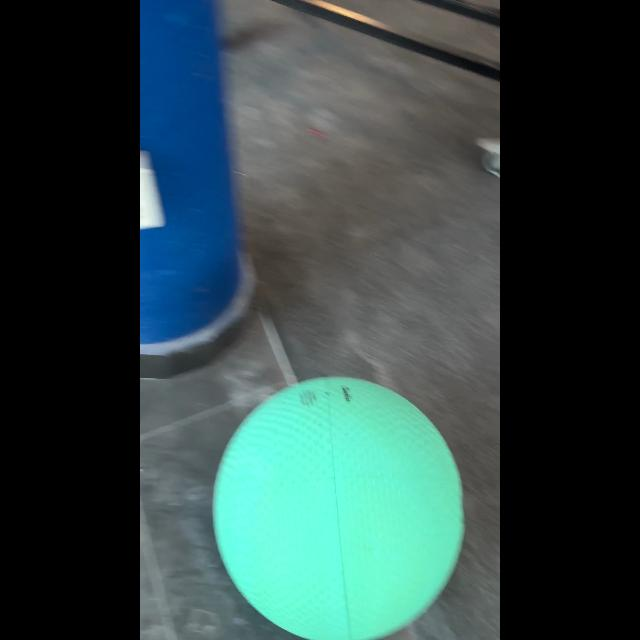ALGAE: (211, 376, 465, 638)
